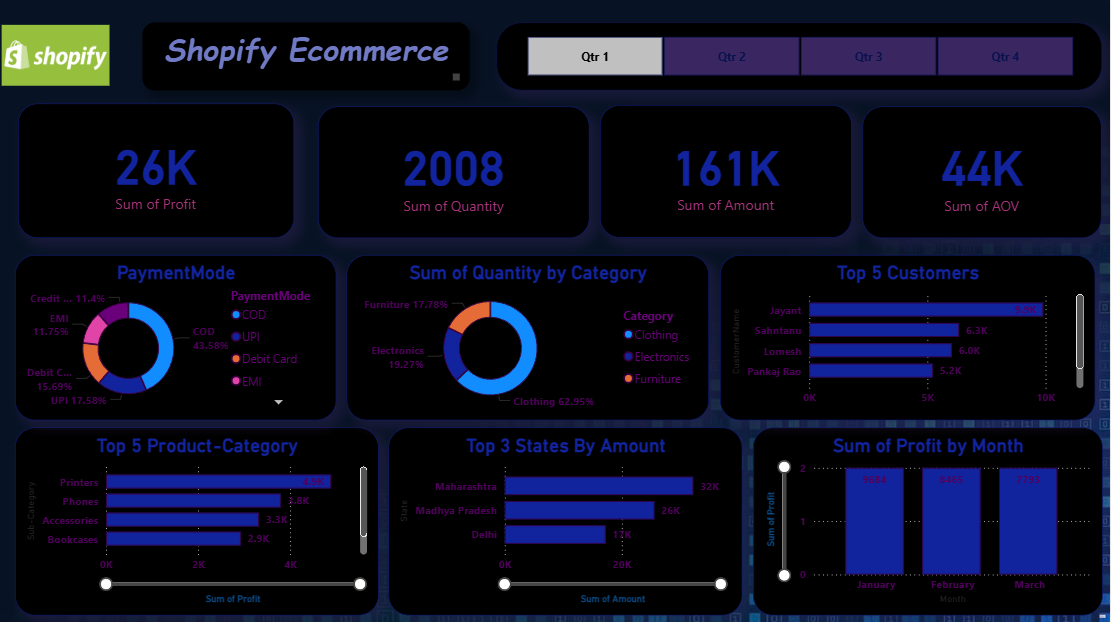

What the dashboard file says about the page in this screenshot:
{"tool":"powerbi","page":{"name":"Page 1","canvas":[1280,720],"ordinal":0},"visuals":[{"type":"image","box":[1262.4,703,17,17],"z":0},{"type":"image","box":[0,0,134.5,134.5],"z":1000},{"type":"textbox","title":"Shopify Ecommerce","box":[167.5,29.3,375.7,78.1],"z":2000},{"type":"columnChart","fields":{"Category":["Orders.Order Date.Variation.Date Hierarchy.Month"],"Y":["Products.Profit"]},"box":[868.6,494.5,401.8,216.3],"z":3000},{"type":"barChart","title":"Top 5 Product-Category","fields":{"Category":["Products.Sub-Category"],"Y":["Products.Profit"]},"box":[21.1,494.5,418,216.3],"z":4000},{"type":"donutChart","fields":{"Category":["Products.Category"],"Y":["Products.Quantity"]},"box":[401.8,296,416.4,190.3],"z":5000},{"type":"pieChart","title":" PaymentMode ","fields":{"Category":["Products.PaymentMode"],"Y":["Products.Quantity"]},"box":[21.1,296,369.2,190.3],"z":6000},{"type":"barChart","title":"Top 3 States By Amount","fields":{"Category":["Orders.State"],"Y":["Products.Amount"]},"box":[450.6,494.5,406.6,216.3],"z":7000},{"type":"barChart","title":"Top 5 Customers","fields":{"Category":["Orders.CustomerName"],"Y":["Products.Amount"]},"box":[831.2,296,431,190.3],"z":8000},{"type":"card","fields":{"Values":["Products.Profit"]},"box":[24.4,122,317.2,154.5],"z":9000},{"type":"card","fields":{"Values":["Products.Quantity"]},"box":[369.2,125.2,312.3,151.3],"z":10000},{"type":"slicer","fields":{"Values":["Orders.Order Date.Variation.Date Hierarchy.Quarter"]},"box":[574.2,29.3,696.2,78.1],"z":11000},{"type":"card","fields":{"Values":["Products.Amount"]},"box":[692.9,123.6,289.5,152.9],"z":12000},{"type":"card","fields":{"Values":["Products.AOV"]},"box":[995.4,125.2,274.9,151.3],"z":13000}]}

Visuals, with their boxes in screenshot pixels (x1, y1, x2, y2), scaled from the page's 1280x720 canvas onto the 1111x622 screenshot:
image: bbox=(1096, 607, 1110, 621)
image: bbox=(0, 0, 117, 116)
"Shopify Ecommerce" textbox: bbox=(145, 25, 471, 93)
columnChart - Orders.Order Date.Variation.Date Hierarchy.Month x Products.Profit: bbox=(754, 427, 1103, 614)
"Top 5 Product-Category" barChart: bbox=(18, 427, 381, 614)
donutChart - Products.Category x Products.Quantity: bbox=(349, 256, 710, 420)
" PaymentMode " pieChart: bbox=(18, 256, 339, 420)
"Top 3 States By Amount" barChart: bbox=(391, 427, 744, 614)
"Top 5 Customers" barChart: bbox=(721, 256, 1096, 420)
card - Products.Profit: bbox=(21, 105, 296, 239)
card - Products.Quantity: bbox=(320, 108, 592, 239)
slicer - Orders.Order Date.Variation.Date Hierarchy.Quarter: bbox=(498, 25, 1103, 93)
card - Products.Amount: bbox=(601, 107, 853, 239)
card - Products.AOV: bbox=(864, 108, 1103, 239)
